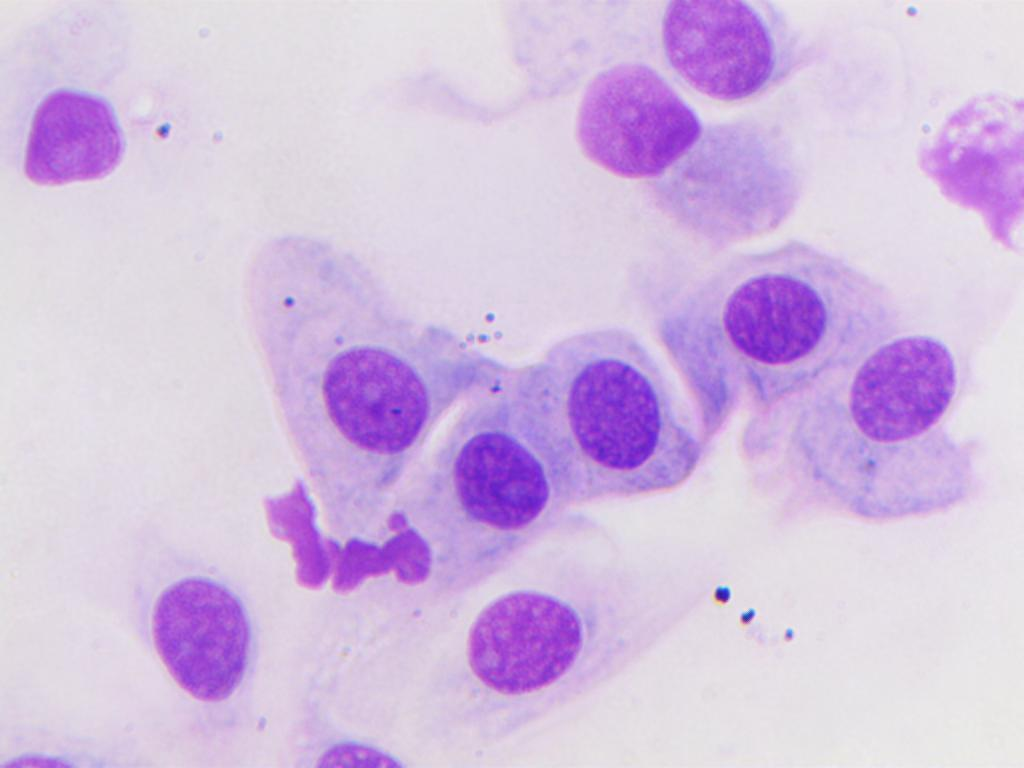artifact: (920, 78, 1024, 252), (257, 494, 429, 597), (18, 78, 141, 197)
epithelial: (231, 216, 440, 468), (452, 580, 699, 730), (548, 339, 694, 526), (848, 304, 972, 524), (129, 547, 276, 723), (692, 255, 850, 383), (553, 58, 705, 179), (654, 0, 818, 107), (432, 426, 563, 556)
